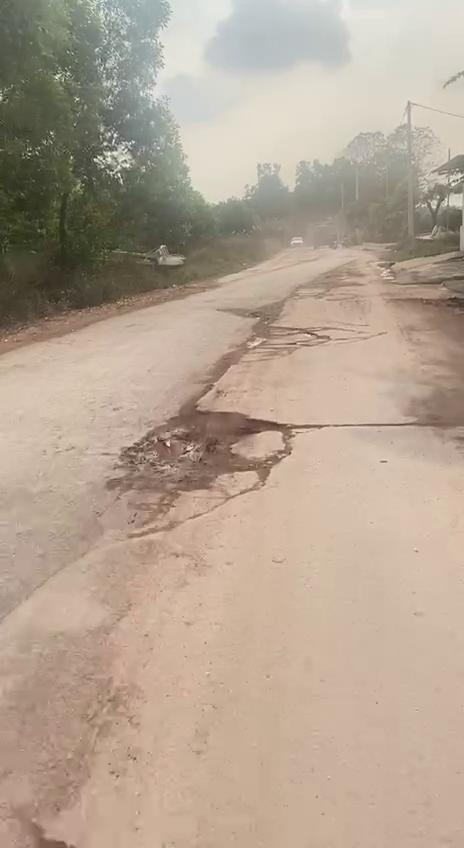pothole: (104, 403, 299, 500)
